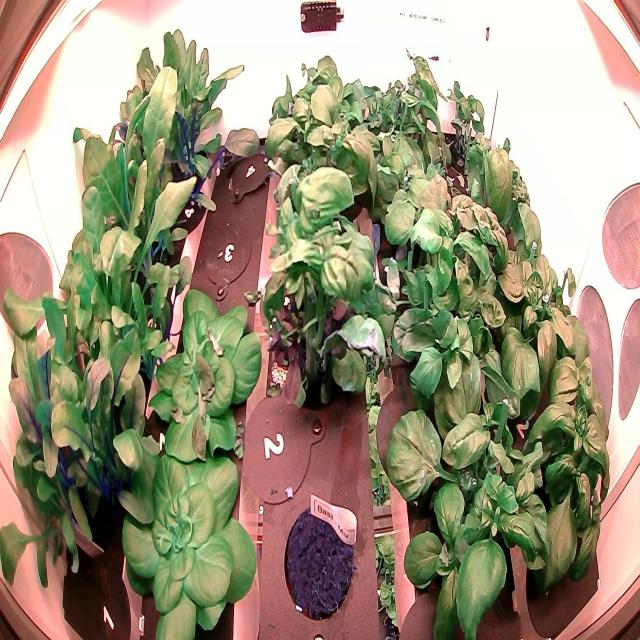empty_pod: (198, 210, 256, 303), (218, 135, 274, 211)
pod: (276, 497, 356, 631)
young: (112, 434, 262, 640), (143, 274, 269, 463)
